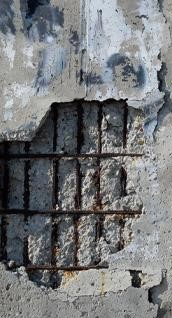Exposed reinforcement: (73, 99, 84, 267), (50, 103, 57, 288), (118, 103, 130, 199), (94, 101, 102, 242), (1, 140, 10, 262), (1, 152, 145, 159), (1, 208, 143, 215), (22, 142, 29, 266), (23, 266, 109, 271)
Spalling: (1, 97, 148, 290)
